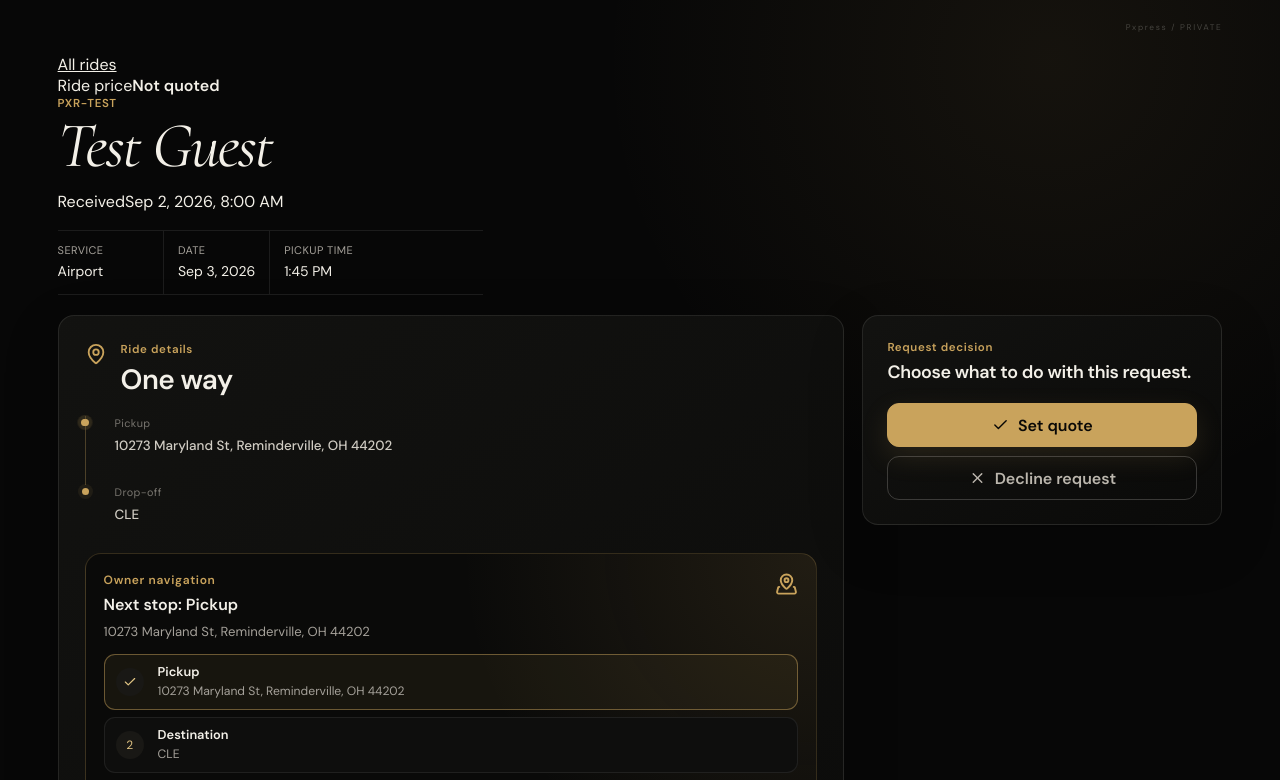
Test: request detail manual quote › does not request or surface optional Finder review while opening a manual draft quote
The image size is (1280, 780).
Expected: the heading "Test Guest" is shown, [58,107,271,184]
Click the button "Set quote": (1042, 425) [887,403,1197,447]
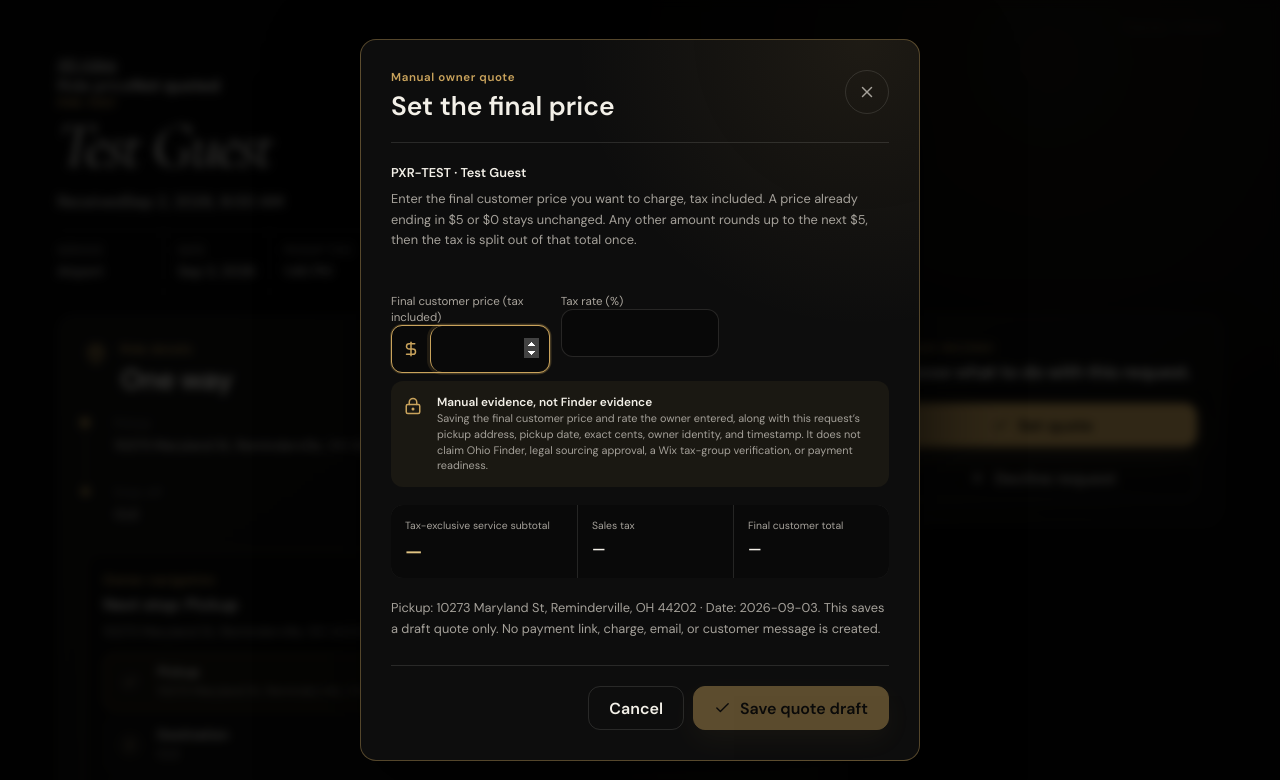
Result: the number field named "Final customer price tax included" is shown at [430,326,549,372]
Result: the number field named "Tax rate percent" is shown at [561,309,719,357]
Result: the text "Manual evidence, not Finder evidence" is shown at [437,394,652,410]
